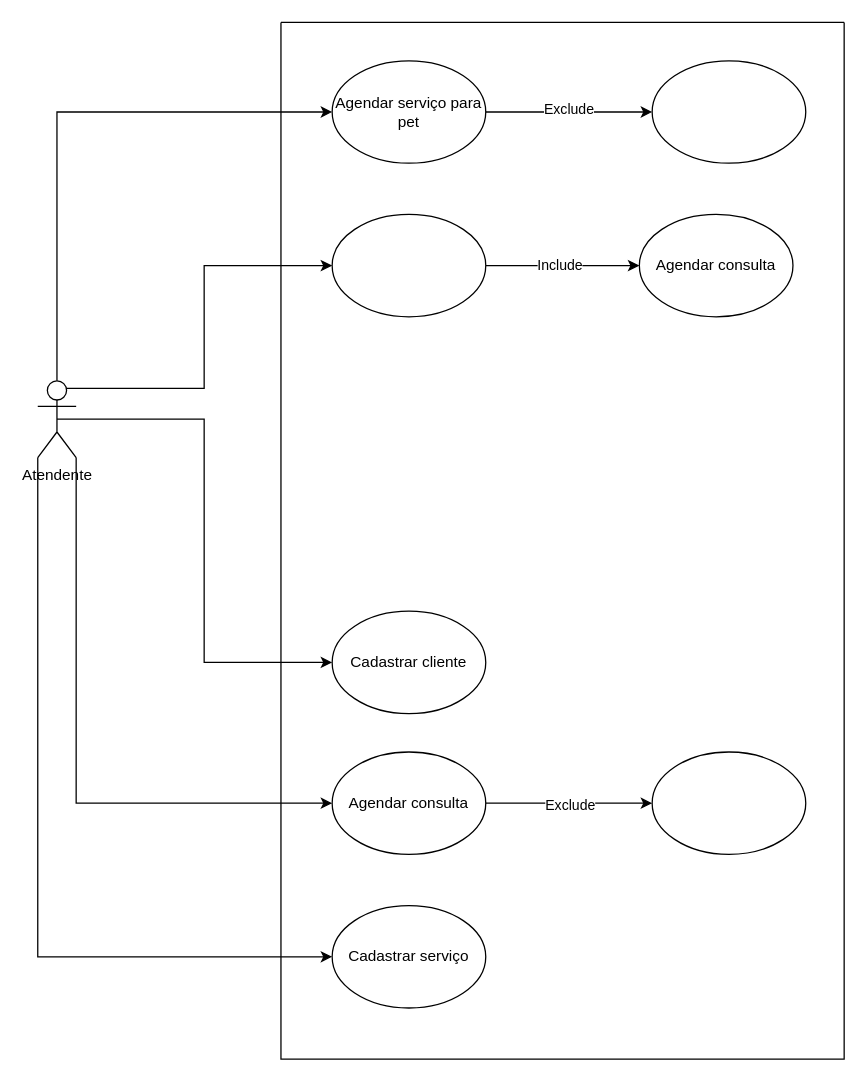
Image size: 867x1082. Some labels were removed from this diagram. Here are the shapes that lost their labels. From the top down, the centre of each, then its label:
At point 728,111: "Visualizar serviços para pet".
At point 408,265: "Cadastrar pet".
At point 728,802: "Visualizar consulta".
